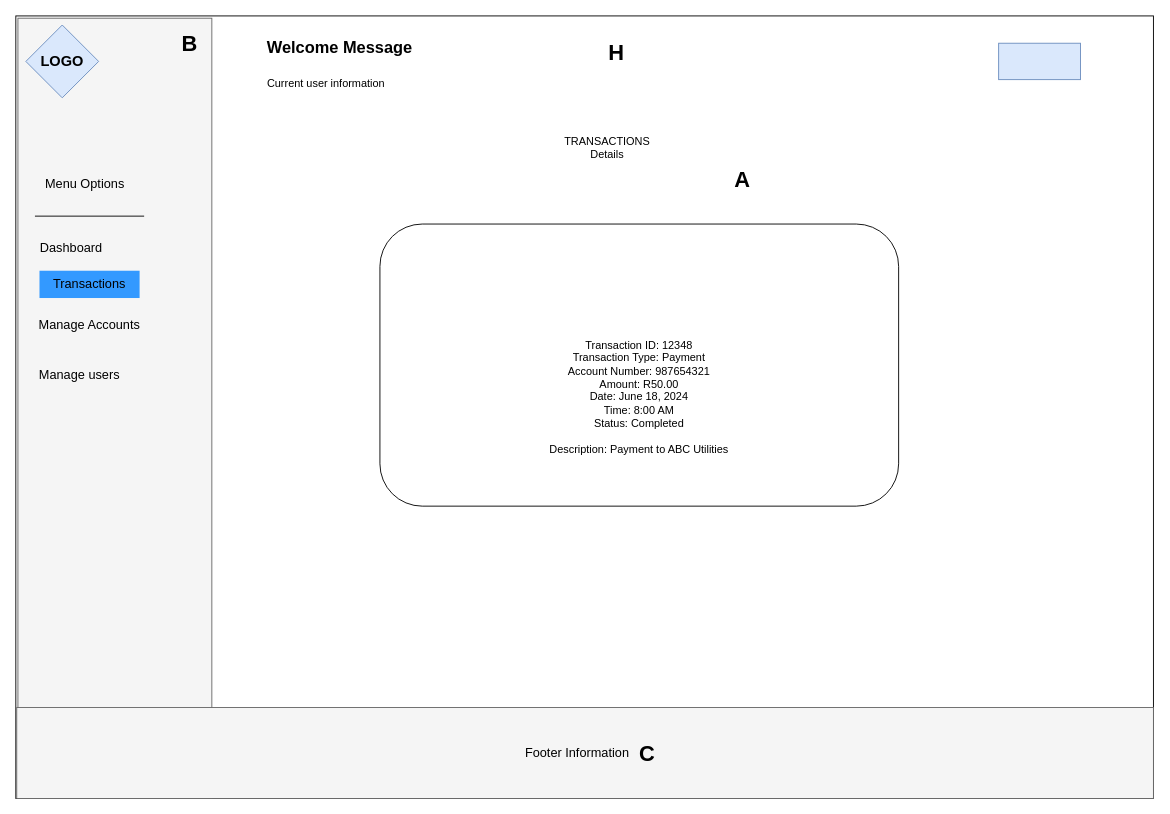
Some shapes in this 1170 by 814 pixel diagram are drawn without their labels. The centre of each missing label's shape, as x and y in pixels:
"Customer 1-Transaction Details" goes at pixel 639 364.
"Logout" goes at pixel 1039 61.
